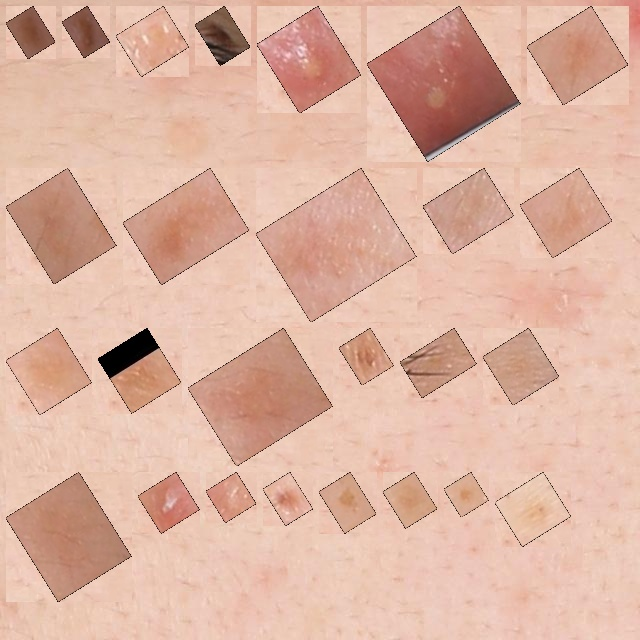melasma: (267, 179, 405, 311), (199, 339, 322, 455), (17, 483, 120, 591), (134, 179, 238, 273), (17, 179, 105, 273), (538, 17, 617, 94), (531, 179, 601, 247), (434, 179, 503, 243), (17, 339, 81, 404), (109, 339, 170, 402), (494, 339, 548, 394), (506, 483, 560, 535), (411, 339, 466, 387), (330, 483, 365, 522), (394, 483, 426, 517), (455, 483, 478, 506)
nevus: (206, 17, 239, 54), (350, 339, 383, 374), (274, 483, 302, 514), (17, 17, 44, 48), (73, 17, 99, 46)
pustule: (378, 17, 509, 150), (268, 17, 350, 102), (127, 17, 178, 65), (149, 483, 188, 522)
